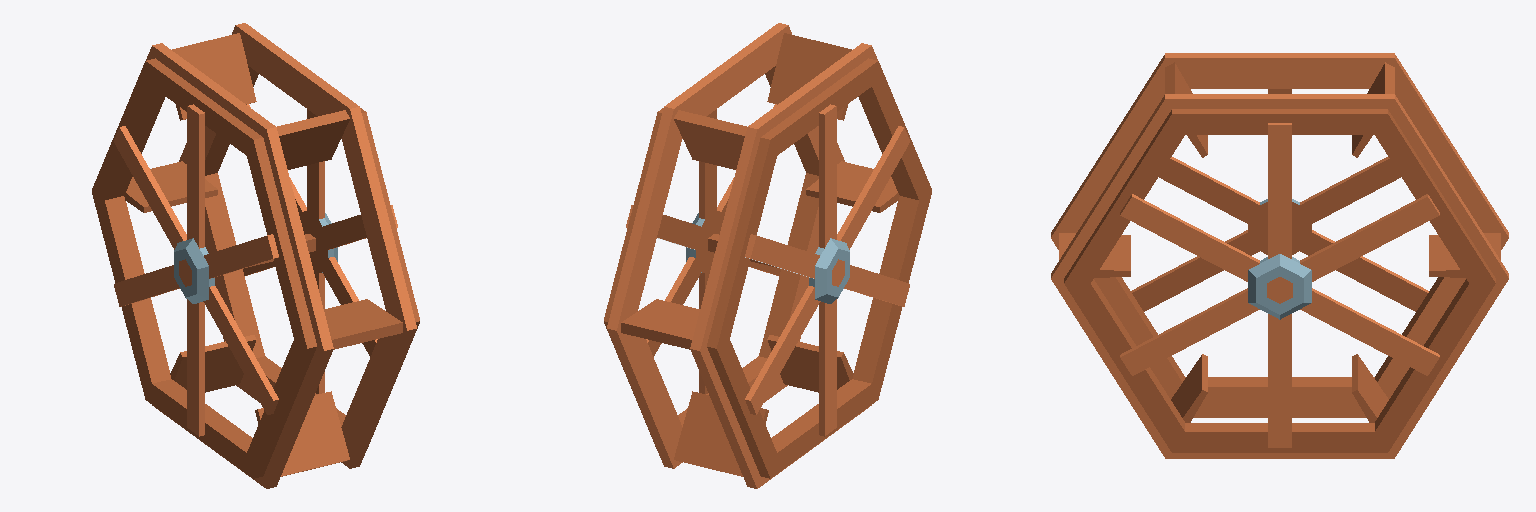
The model's file is watermill.obj.
3 renders of one model, left to right at view 1: azimuth 30°, elevation 25°; view 2: azimuth 150°, elevation 25°; view 3: azimuth 270°, elevation 25°, orthographic.
Parts seen in each view (by area): view 1: watermill, paddle; view 2: watermill, paddle; view 3: watermill, paddle.
Part boxes in pixels (x1,y1,x2,y2): watermill: (92, 23, 419, 488); paddle: (124, 33, 402, 476); watermill: (604, 23, 931, 488); paddle: (621, 33, 899, 476); watermill: (1051, 53, 1508, 458); paddle: (1059, 62, 1500, 422).
Size of the model in its own units: 0.71 by 1.73 by 2.